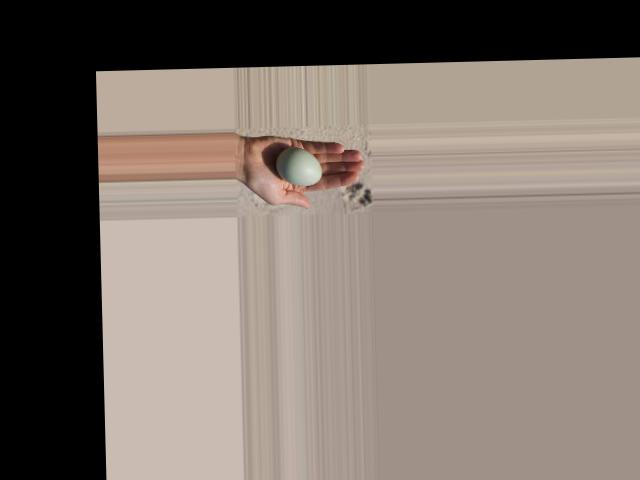egg: (276, 146, 323, 185)
